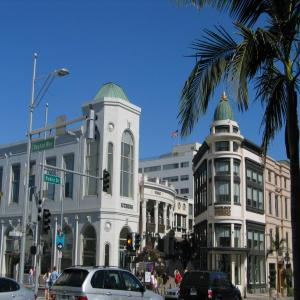Vehicle-registration-plate: (191, 290, 198, 296)
